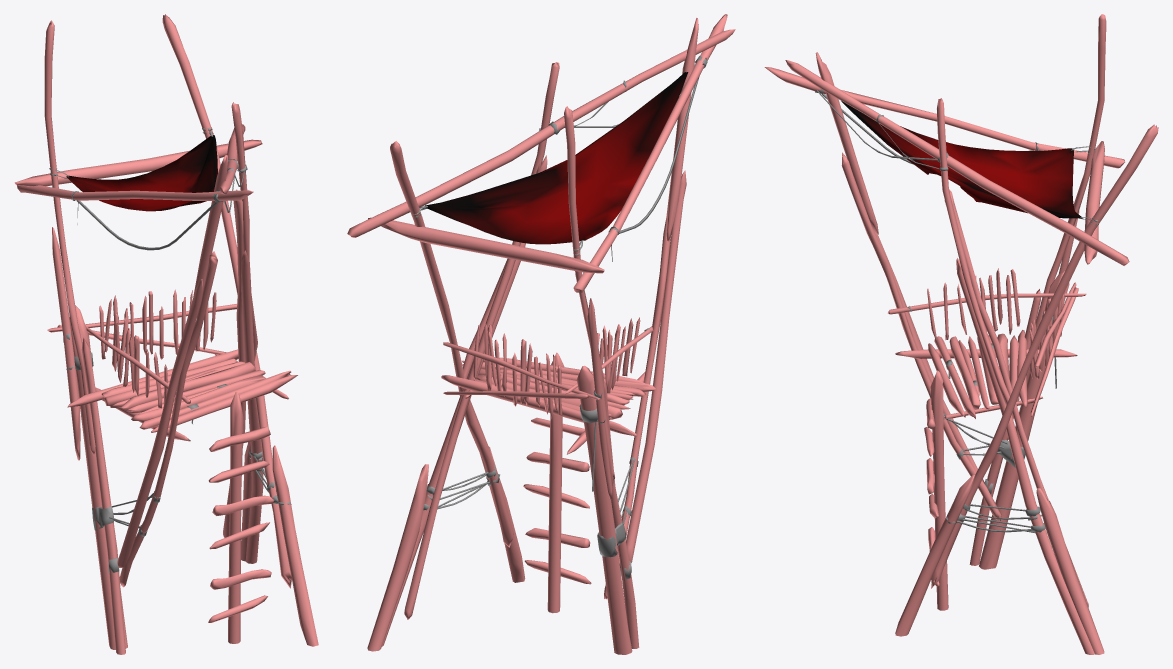
The model's file is watchtower_generic_village_01.gltf.
3 views of the same model, side by side, from view 1: azimuth 30°, elevation 25°; view 2: azimuth 150°, elevation 25°; view 3: azimuth 270°, elevation 25° (orthographic). The views are drawn at different scales.
Parts seen in each view (by area): view 1: watchtower_generic_village_01; view 2: watchtower_generic_village_01; view 3: watchtower_generic_village_01.
Boxes of the visible parts, box(x1,y1,x2,y2) form: watchtower_generic_village_01: box(14, 14, 318, 654); watchtower_generic_village_01: box(347, 14, 735, 654); watchtower_generic_village_01: box(764, 14, 1158, 654).
Size of the model in its own units: 3.51 by 8.12 by 5.28.
